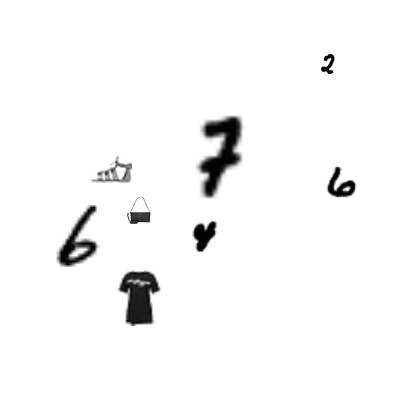2: (314, 50, 342, 78)
4: (182, 214, 224, 256)
6: (33, 200, 117, 284), (319, 164, 361, 206)
7: (161, 93, 273, 205)
Bag: (125, 196, 153, 224)
Sandal: (90, 148, 132, 190)
T-shirt/top: (110, 270, 166, 326)
